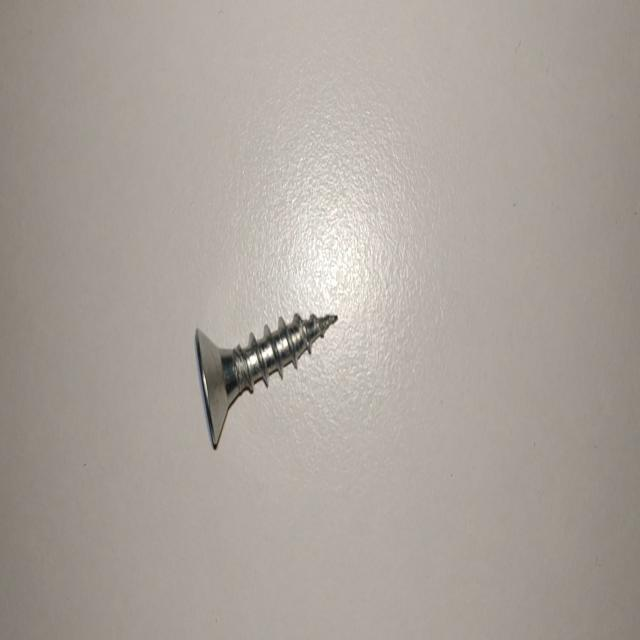Screw: (195, 313, 338, 448)
